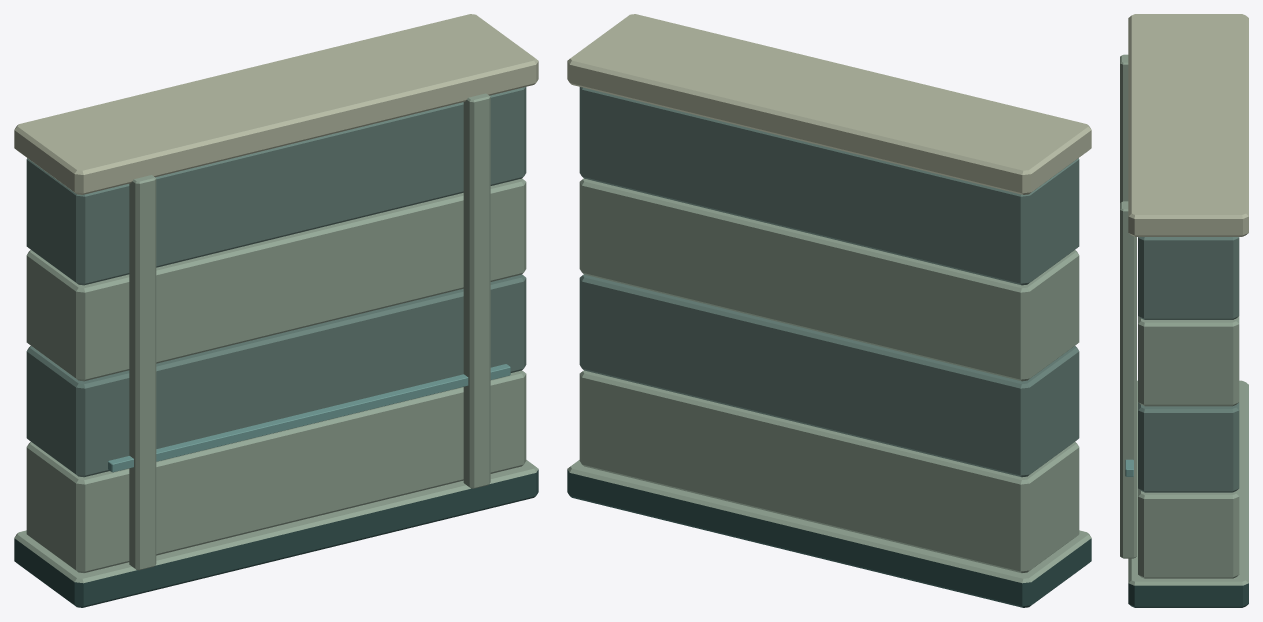
The model's file is wall-tall.glb.
The picture shows the model from 3 angles, left to right: view 1: azimuth 30°, elevation 25°; view 2: azimuth 150°, elevation 25°; view 3: azimuth 270°, elevation 25°; orthographic projection. The views are drawn at different scales.
Parts seen in each view (by area): view 1: wall-tall__body; view 2: wall-tall__body; view 3: wall-tall__body.
Boxes of the visible parts, x1,y1,x2,y2 form: wall-tall__body: [14, 14, 538, 607]; wall-tall__body: [567, 14, 1091, 607]; wall-tall__body: [1120, 14, 1248, 607].
Bounding box in the file's own units: 2 × 1.8 × 0.535.
